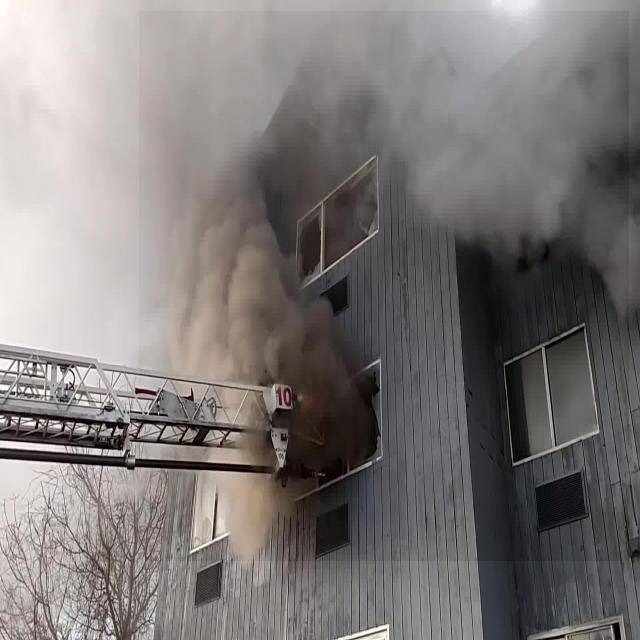Smoke: (139, 11, 629, 561)
